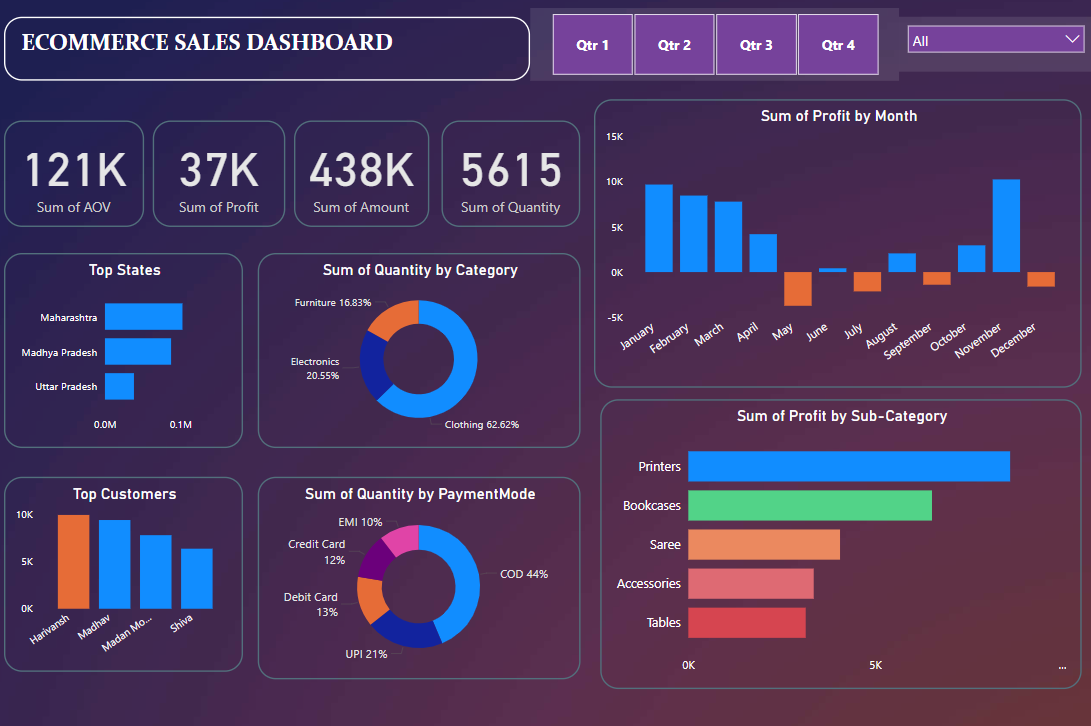

Layout of this report page (visuals, bound fields, positions):
{"tool":"powerbi","page":{"name":"Page 1","canvas":[1280,869],"ordinal":0},"visuals":[{"type":"textbox","box":[11.6,27.7,613,74.3],"z":0},{"type":"columnChart","fields":{"Category":["Orders.Order Date.Variation.Date Hierarchy.Month"],"Y":["Sum(Details.Profit)"]},"box":[698.9,123.8,567.9,336.4],"z":1000},{"type":"clusteredBarChart","fields":{"Category":["Details.Sub-Category"],"Y":["Sum(Details.Profit)"]},"box":[706.2,473.2,560.6,337.8],"z":2000},{"type":"donutChart","fields":{"Category":["Details.PaymentMode"],"Y":["Sum(Details.Quantity)"]},"box":[307.2,563.5,375.7,235.9],"z":3000},{"type":"donutChart","fields":{"Category":["Details.Category"],"Y":["Sum(Details.Quantity)"]},"box":[307.2,302.9,375.7,227.2],"z":4000},{"type":"card","fields":{"Values":["Sum(Details.Amount)"]},"box":[349.5,148.5,157.3,123.8],"z":5000},{"type":"card","fields":{"Values":["Sum(Details.AOV)"]},"box":[11.6,148.5,163.1,123.8],"z":6000},{"type":"card","fields":{"Values":["Sum(Details.Quantity)"]},"box":[521.3,148.5,161.6,123.8],"z":7000},{"type":"card","fields":{"Values":["Sum(Details.Profit)"]},"box":[184.9,148.5,154.3,123.8],"z":8000},{"type":"columnChart","title":"Top Customers","fields":{"Category":["Orders.CustomerName"],"Y":["Sum(Details.Amount)"]},"box":[11.6,563.5,278.1,227.2],"z":9000},{"type":"clusteredBarChart","title":"Top States","fields":{"Category":["Orders.State"],"Y":["Sum(Details.Amount)"]},"box":[11.6,302.9,278.1,227.2],"z":10000},{"type":"slicer","fields":{"Values":["Orders.Order Date.Variation.Date Hierarchy.Quarter"]},"box":[624.7,17.5,429.6,84.5],"z":11000},{"type":"slicer","fields":{"Values":["Orders.State"]},"box":[1054.2,27.7,225.7,64.1],"z":12000}]}

Visuals, with their boxes in screenshot pixels (x1, y1, x2, y2), scaled from the page's 1280x869 canvas onto the 1091x726 screenshot:
textbox: Rect(10, 23, 532, 85)
columnChart - Orders.Order Date.Variation.Date Hierarchy.Month x Sum(Details.Profit): Rect(596, 103, 1080, 384)
clusteredBarChart - Details.Sub-Category x Sum(Details.Profit): Rect(602, 395, 1080, 678)
donutChart - Details.PaymentMode x Sum(Details.Quantity): Rect(262, 471, 582, 668)
donutChart - Details.Category x Sum(Details.Quantity): Rect(262, 253, 582, 443)
card - Sum(Details.Amount): Rect(298, 124, 432, 227)
card - Sum(Details.AOV): Rect(10, 124, 149, 227)
card - Sum(Details.Quantity): Rect(444, 124, 582, 227)
card - Sum(Details.Profit): Rect(158, 124, 289, 227)
"Top Customers" columnChart: Rect(10, 471, 247, 661)
"Top States" clusteredBarChart: Rect(10, 253, 247, 443)
slicer - Orders.Order Date.Variation.Date Hierarchy.Quarter: Rect(532, 15, 899, 85)
slicer - Orders.State: Rect(899, 23, 1090, 77)
